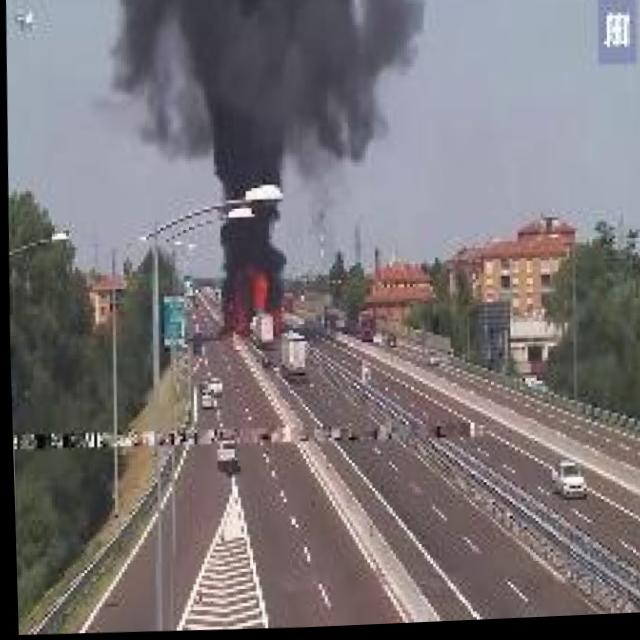fire: (217, 268, 280, 343)
